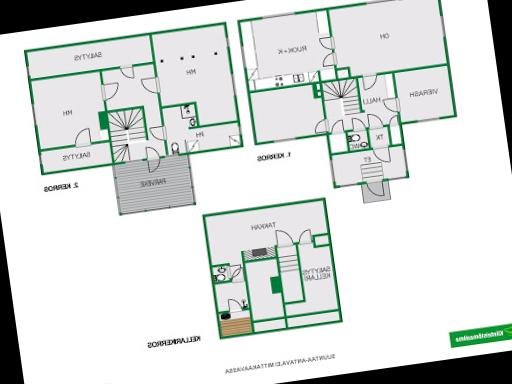door: (272, 226, 298, 248), (140, 76, 161, 97), (370, 144, 392, 164), (102, 80, 122, 101), (360, 72, 381, 92), (73, 126, 94, 146), (382, 94, 402, 114), (144, 155, 164, 175), (366, 180, 387, 198), (150, 123, 168, 144), (318, 34, 338, 52), (118, 62, 137, 80), (320, 51, 338, 68), (226, 296, 243, 314), (228, 266, 246, 283), (143, 143, 161, 160), (366, 112, 385, 128), (330, 118, 346, 136), (350, 114, 366, 132), (296, 228, 314, 244), (314, 118, 330, 134), (228, 262, 242, 280), (387, 112, 400, 126)
window: (260, 9, 302, 22), (228, 68, 239, 101), (268, 134, 302, 144), (238, 42, 249, 72), (414, 113, 444, 124), (30, 98, 40, 130), (328, 155, 338, 186), (363, 0, 405, 7), (400, 145, 410, 174), (120, 157, 144, 166), (337, 180, 361, 188), (24, 61, 32, 79), (236, 122, 244, 136), (224, 33, 231, 49), (38, 152, 44, 168)
